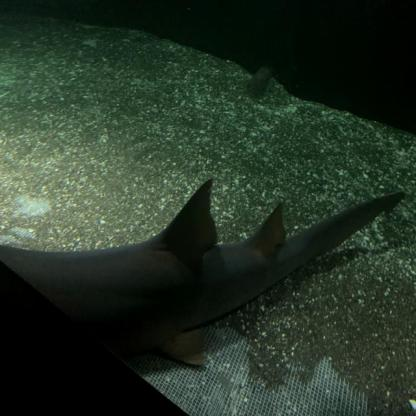shark: (0, 176, 406, 367)
